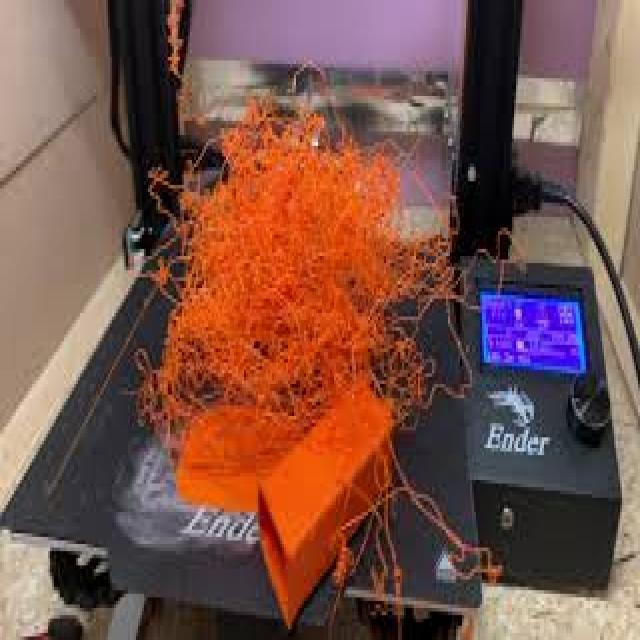spaghetti: (153, 114, 443, 415)
